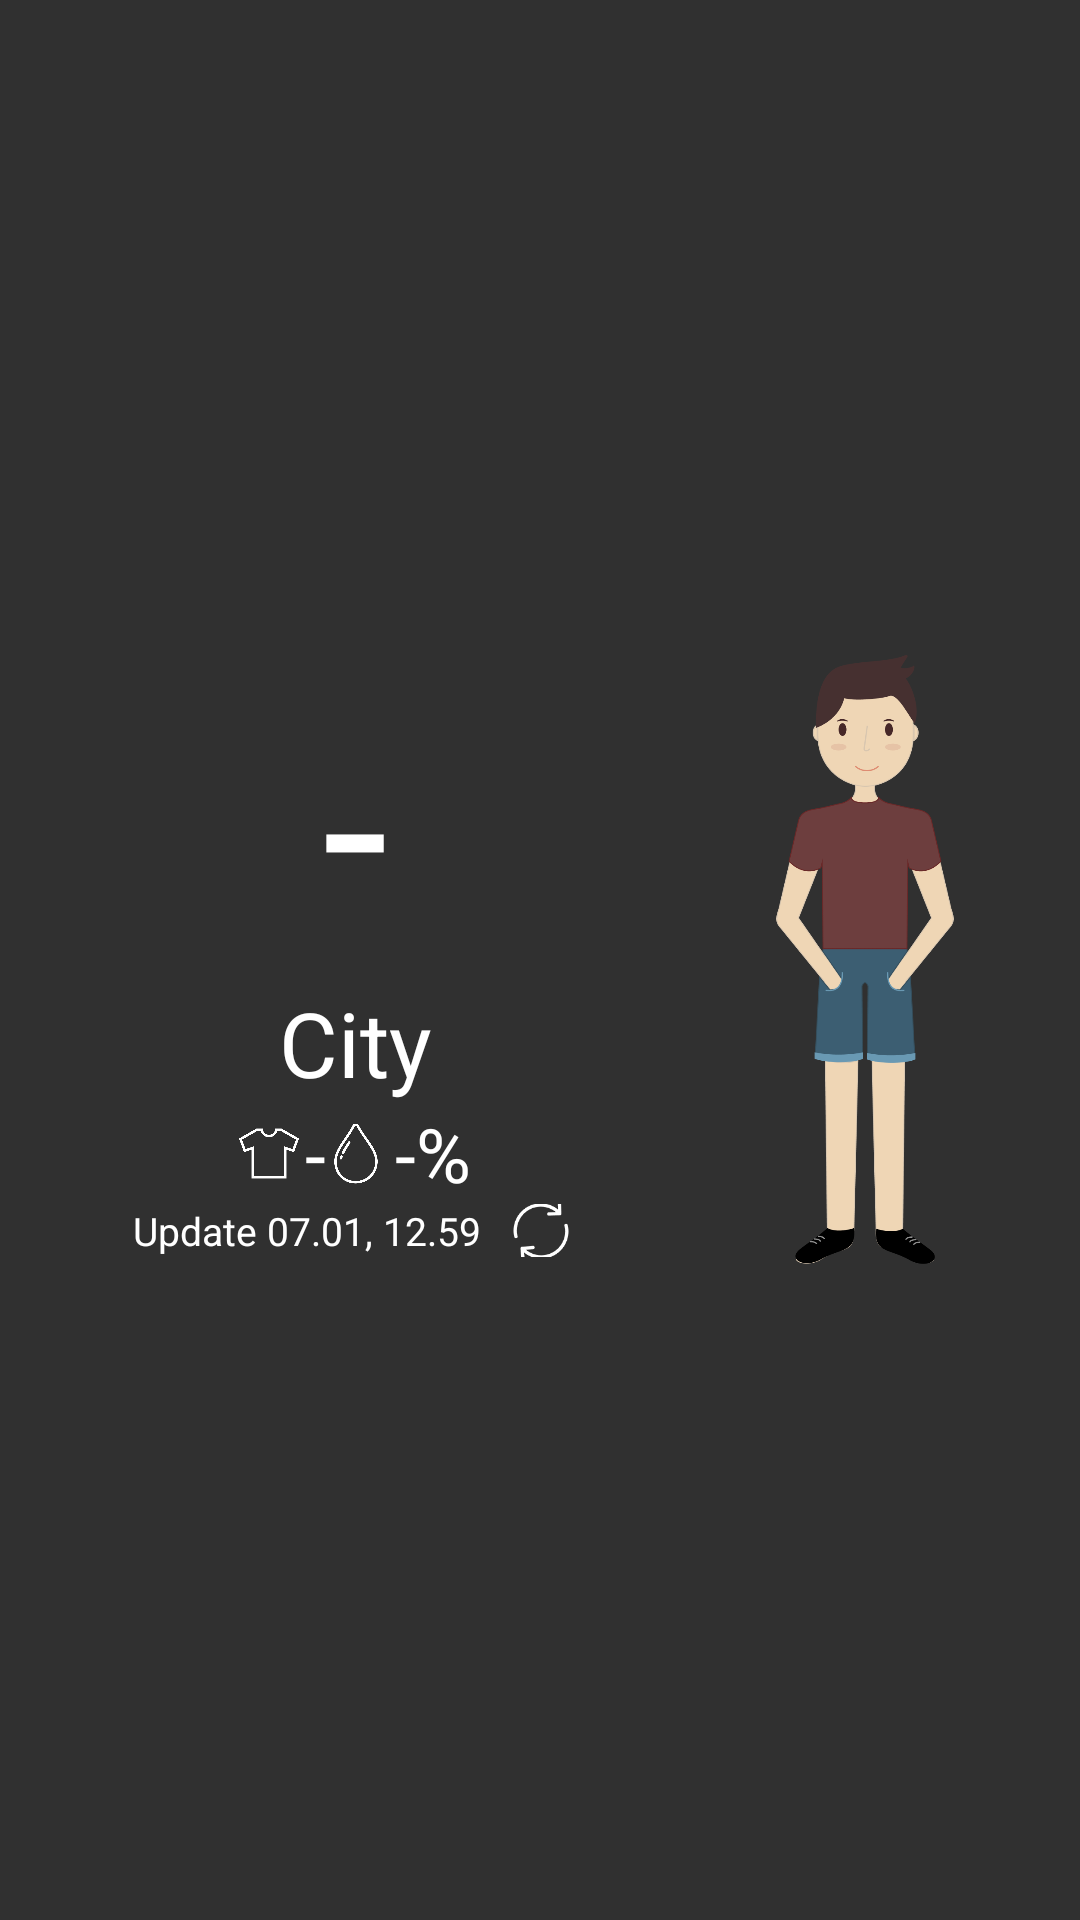

Locate icon controls on the screen. Image size 1080w x 1920h, boxes as rect(x1, y1, x2, y2).
drop: rect(334, 1124, 378, 1184)
shirt: rect(239, 1128, 299, 1179)
